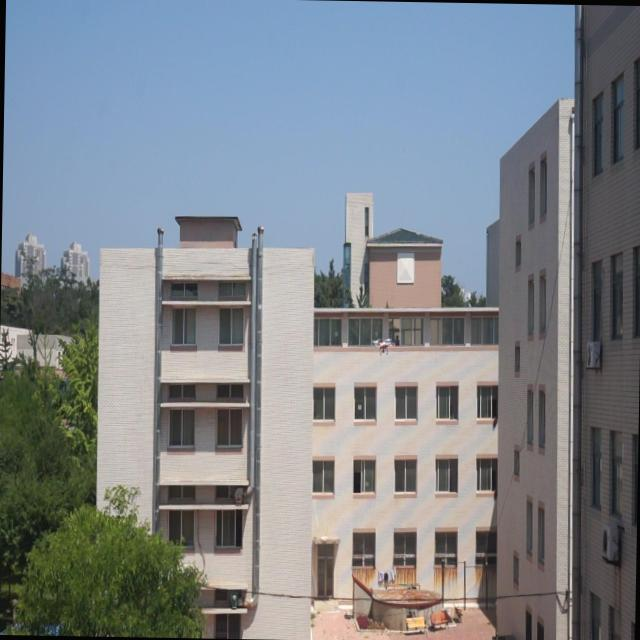drone: (368, 333, 395, 355)
